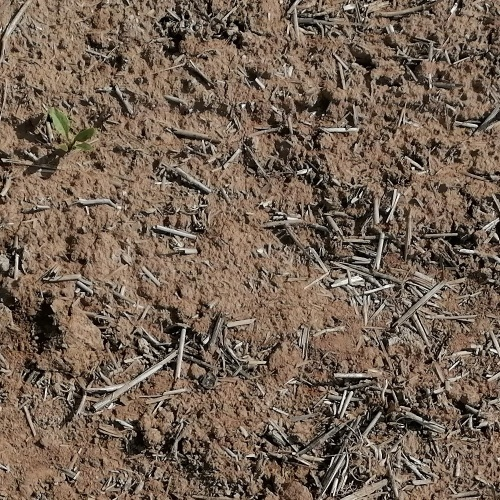beet: (48, 107, 95, 155)
